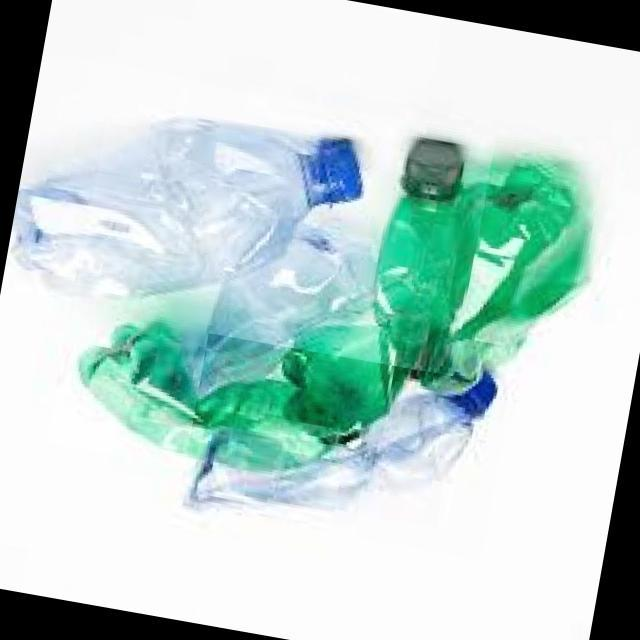defected: (1, 54, 374, 346), (375, 111, 614, 397), (78, 315, 410, 474), (179, 365, 504, 523)
